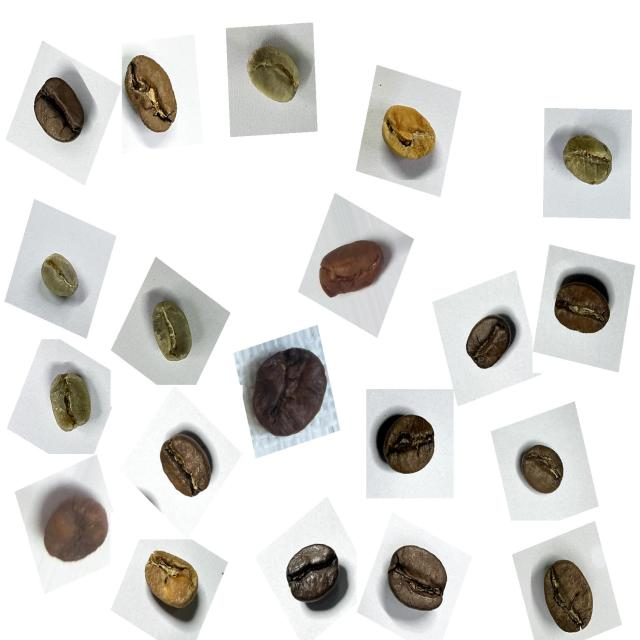bad: (239, 331, 338, 451), (30, 480, 115, 579), (311, 228, 394, 314)
dark: (380, 534, 459, 628), (276, 531, 350, 619), (454, 302, 521, 382)
green: (234, 33, 313, 125), (140, 289, 206, 376), (554, 124, 624, 202), (36, 362, 101, 444), (31, 243, 90, 312)
light: (372, 88, 448, 176), (138, 541, 212, 627)
medium: (113, 46, 191, 148), (530, 549, 608, 640), (370, 402, 446, 491), (546, 265, 620, 350), (25, 68, 95, 157), (148, 423, 220, 509), (510, 436, 572, 507)
